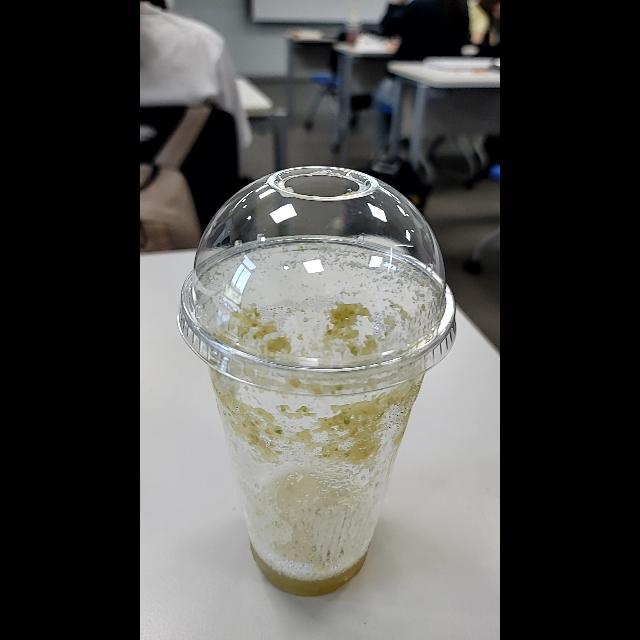plastic_cup: (176, 165, 454, 597)
plastic_cup_lid: (176, 166, 462, 398)
